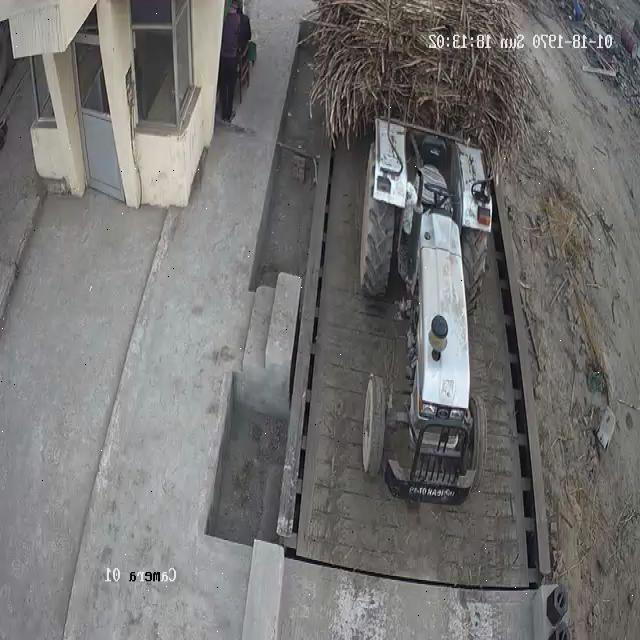Tratores - v5 YOLO V8L 2024-11-13: (359, 116, 498, 503)
